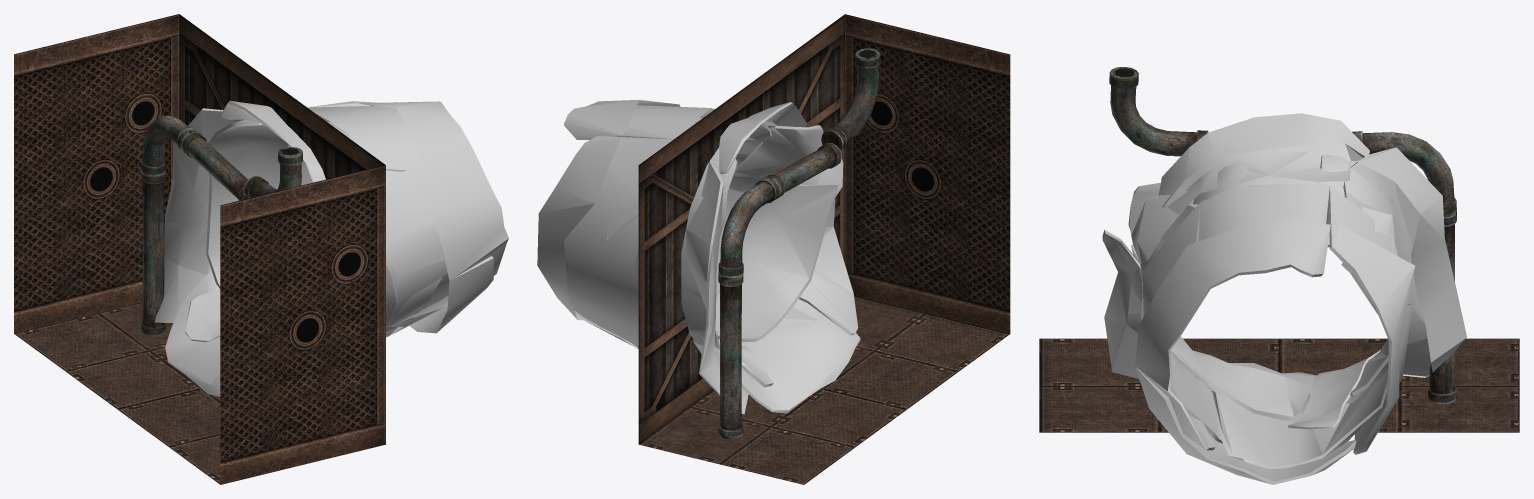
File: 01_02_comm_room_wall_interior_tunnel.dae
3 views of the same model, side by side, from view 1: azimuth 30°, elevation 25°; view 2: azimuth 150°, elevation 25°; view 3: azimuth 270°, elevation 25° (orthographic). The views are drawn at different scales.
Parts seen in each view (by area): view 1: interior__2_, tunnel__3_, pipes__2_; view 2: interior__2_, tunnel__3_, pipes__2_; view 3: tunnel__3_, interior__2_, pipes__2_.
Part boxes in pixels (<box>): interior__2_: <box>14,14,385,484</box>; tunnel__3_: <box>154,100,508,396</box>; pipes__2_: <box>141,115,303,336</box>; interior__2_: <box>638,14,1010,484</box>; tunnel__3_: <box>537,99,860,414</box>; pipes__2_: <box>718,48,880,439</box>; tunnel__3_: <box>1102,113,1466,484</box>; interior__2_: <box>1039,338,1519,432</box>; pipes__2_: <box>1109,67,1456,404</box>.
Size of the model in its own units: 3.03 by 2.34 by 3.11.
